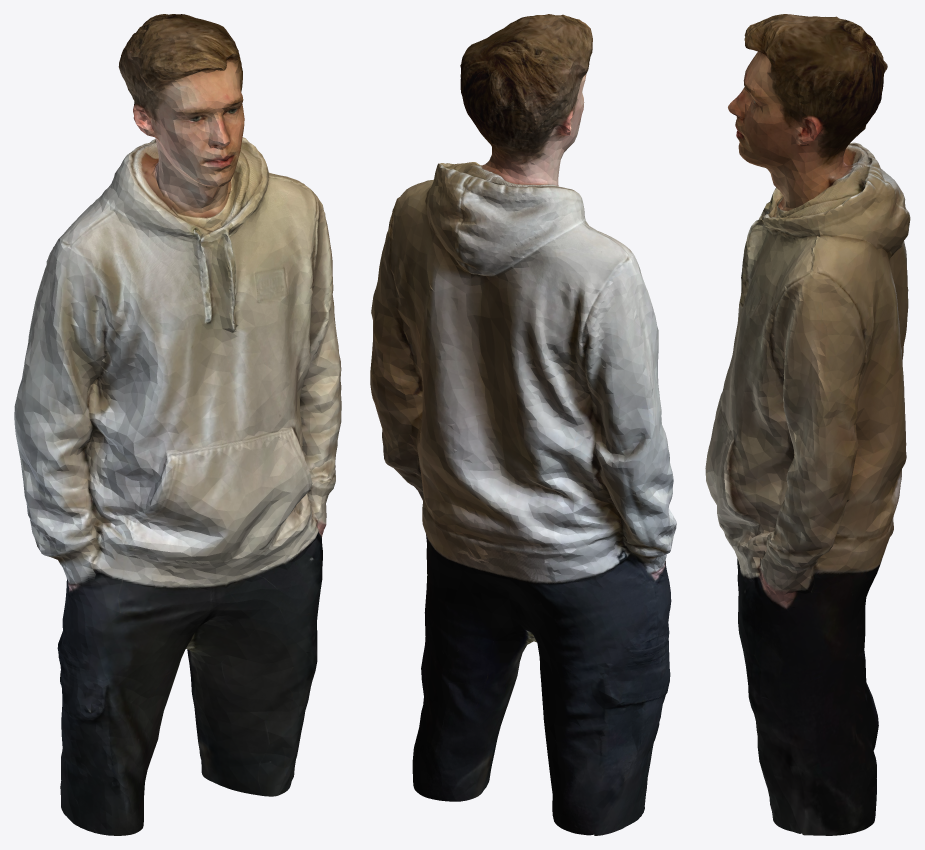
File: me_jacket_cropped.glb
The picture shows the model from 3 angles, left to right: view 1: azimuth 30°, elevation 25°; view 2: azimuth 150°, elevation 25°; view 3: azimuth 270°, elevation 25°; orthographic projection.
Bounding box in the file's own units: 1.22 × 2.98 × 0.7257.
Materials: 1 (1 with a texture image).
